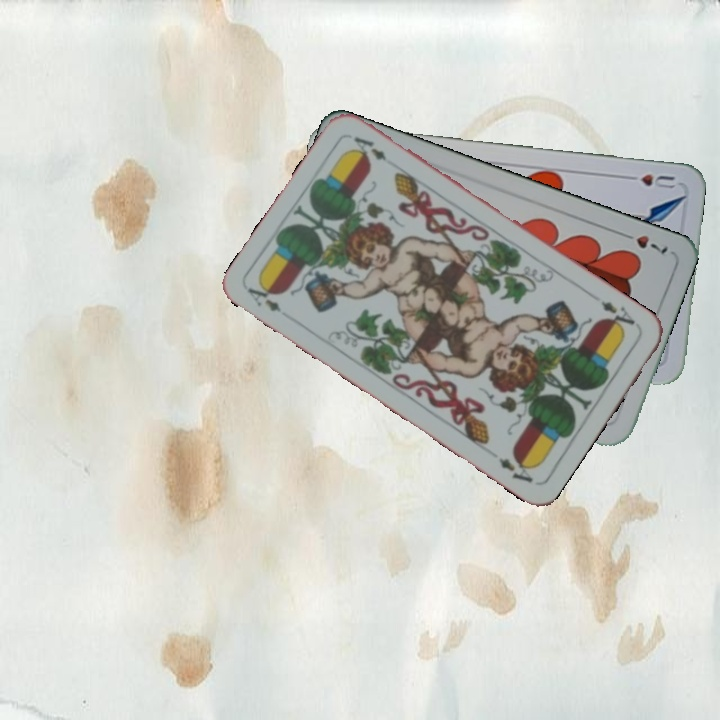EA: (596, 296, 638, 335), (243, 278, 284, 315)
H7: (615, 227, 671, 257)
HU: (621, 170, 677, 191)
